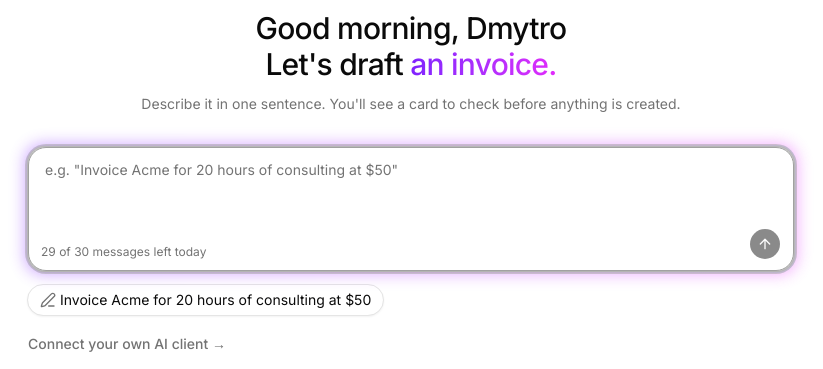
Test: StartPanel - start=draft › fills the composer from the chip without sending
This screenshot has width=823, height=369.
Click the button "Invoice Acme for 20 hours of consulting at $50": point(206, 300) x1=27 y1=284 x2=384 y2=316
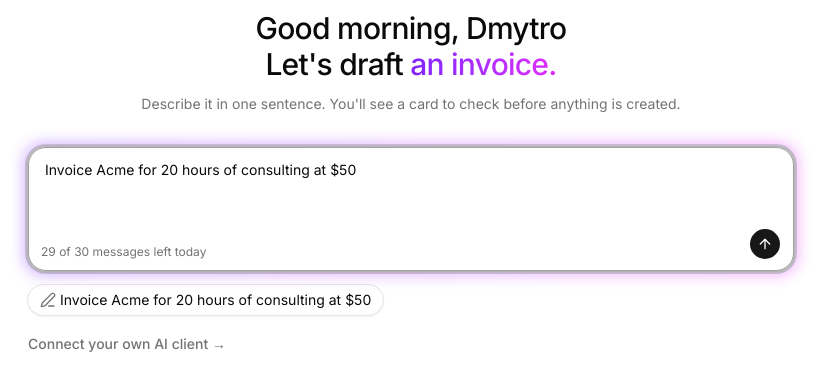
Check: the text box holds "Invoice Acme for 20 hours of consulting at $50", box x1=29 y1=148 x2=793 y2=228
